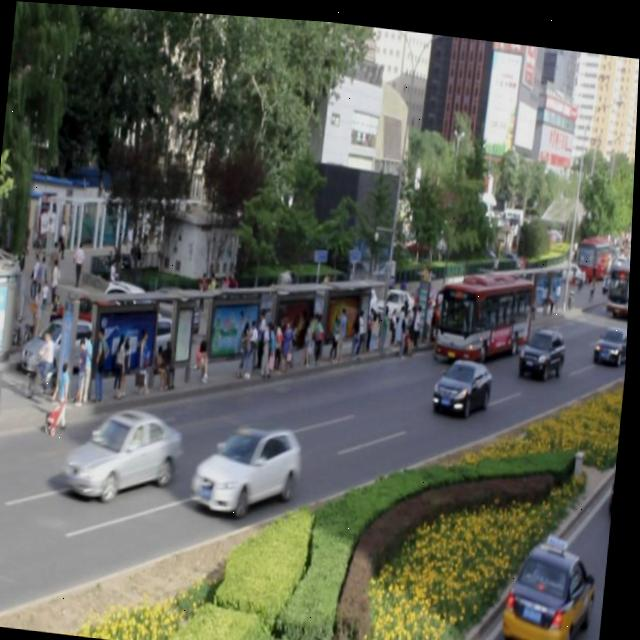car: (65, 396, 188, 505), (195, 410, 308, 513), (435, 347, 496, 411), (520, 317, 569, 371), (594, 315, 630, 356)
van: (431, 259, 533, 365)
